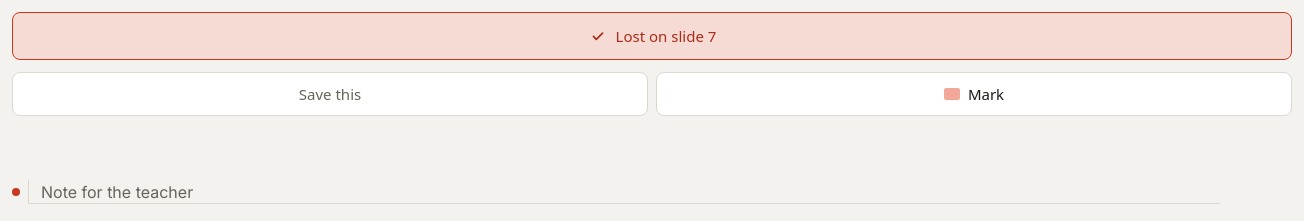
Test case: LostButton › note to the teacher › taking I'm lost back while a note is typed saves the note on the tap first, and Undo brings both back
Type "ask about this" into the text box labelled "Note for the teacher" at (624, 192), box x1=28 y1=180 x2=1220 y2=204
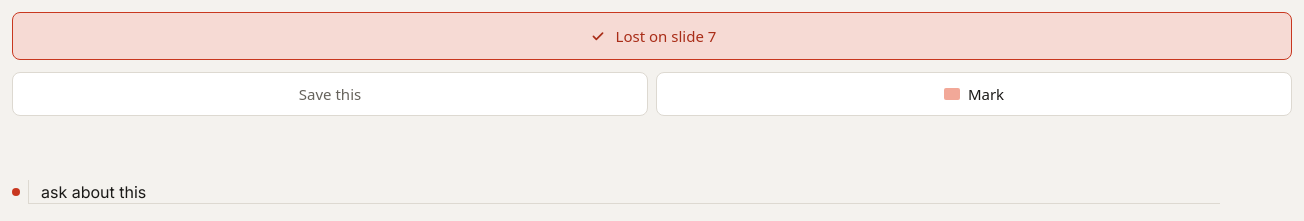
Click the button "Lost on slide 7" at (652, 36), box x1=12 y1=12 x2=1292 y2=60
Wait 2400 ms
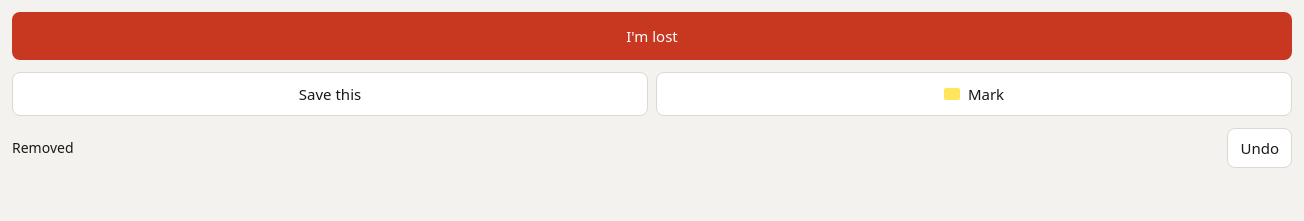
Expected: the field labelled "Note for the teacher" is not shown
Click the button "Undo" at (1260, 148), box x1=1228 y1=128 x2=1292 y2=168
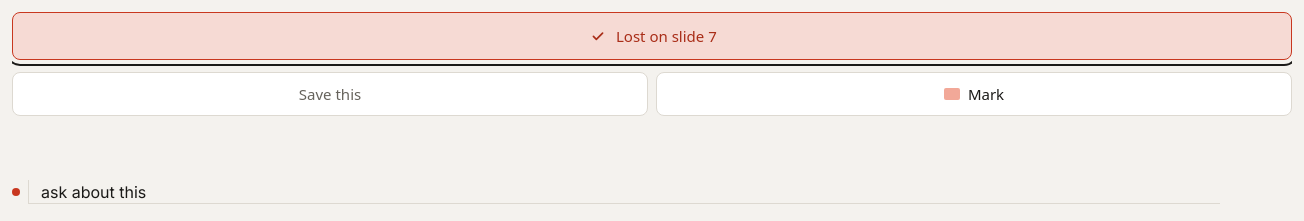
Now the text box named "Note for the teacher" holds "ask about this", box x1=28 y1=180 x2=1220 y2=204
